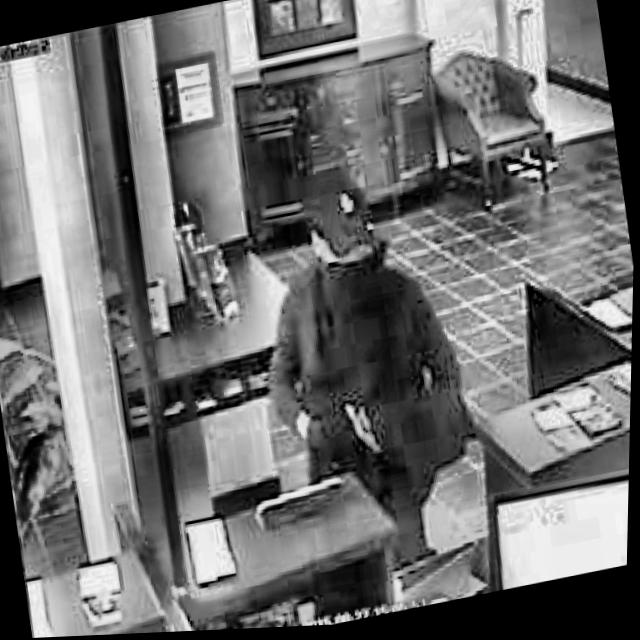robbery: (231, 161, 491, 538)
